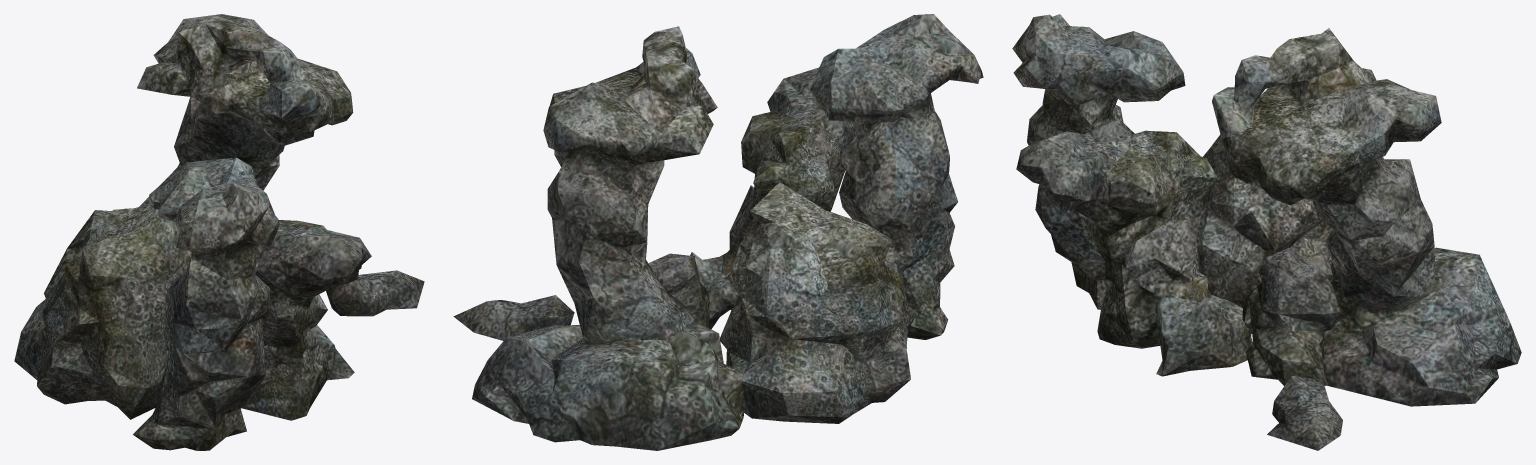
File: bg_lut_crseasho_seastone01_sm_artree.FBX
3 views of the same model, side by side, from view 1: azimuth 30°, elevation 25°; view 2: azimuth 150°, elevation 25°; view 3: azimuth 270°, elevation 25° (orthographic). The views are drawn at different scales.
Parts seen in each view (by area): view 1: bg_lut_crseasho_seastone01_sm_artree; view 2: bg_lut_crseasho_seastone01_sm_artree; view 3: bg_lut_crseasho_seastone01_sm_artree.
Part boxes in pixels (x1,y1,x2,y2): bg_lut_crseasho_seastone01_sm_artree: (14, 14, 424, 450); bg_lut_crseasho_seastone01_sm_artree: (453, 14, 983, 450); bg_lut_crseasho_seastone01_sm_artree: (1012, 14, 1521, 450).
Size of the model in its own units: 231 by 164 by 243.
